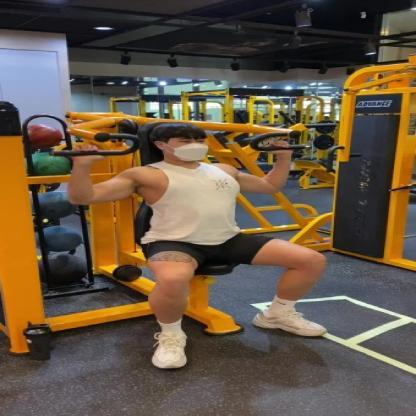shoulder press machine: (1, 73, 354, 384)
